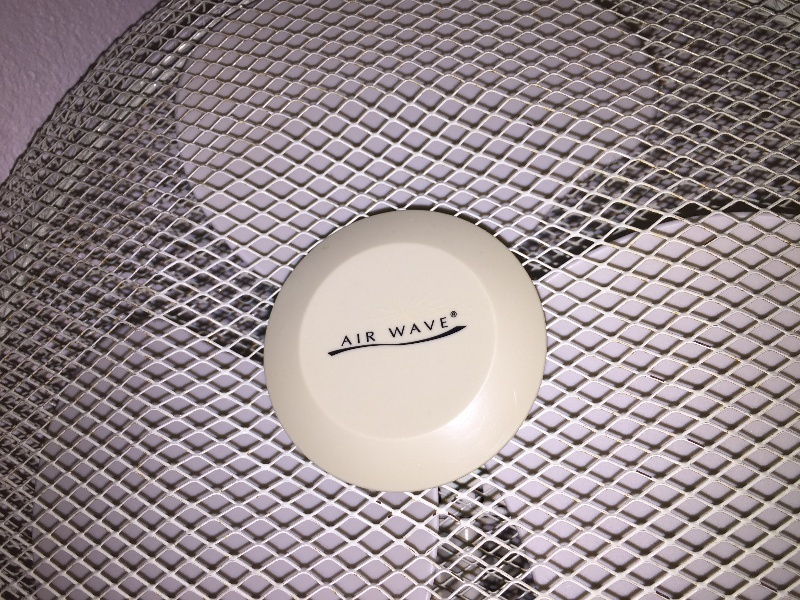text: (433, 317, 449, 338), (401, 317, 416, 338), (417, 317, 432, 338), (353, 331, 368, 347), (389, 317, 400, 338), (342, 331, 352, 347), (369, 331, 376, 347), (451, 312, 464, 317)
